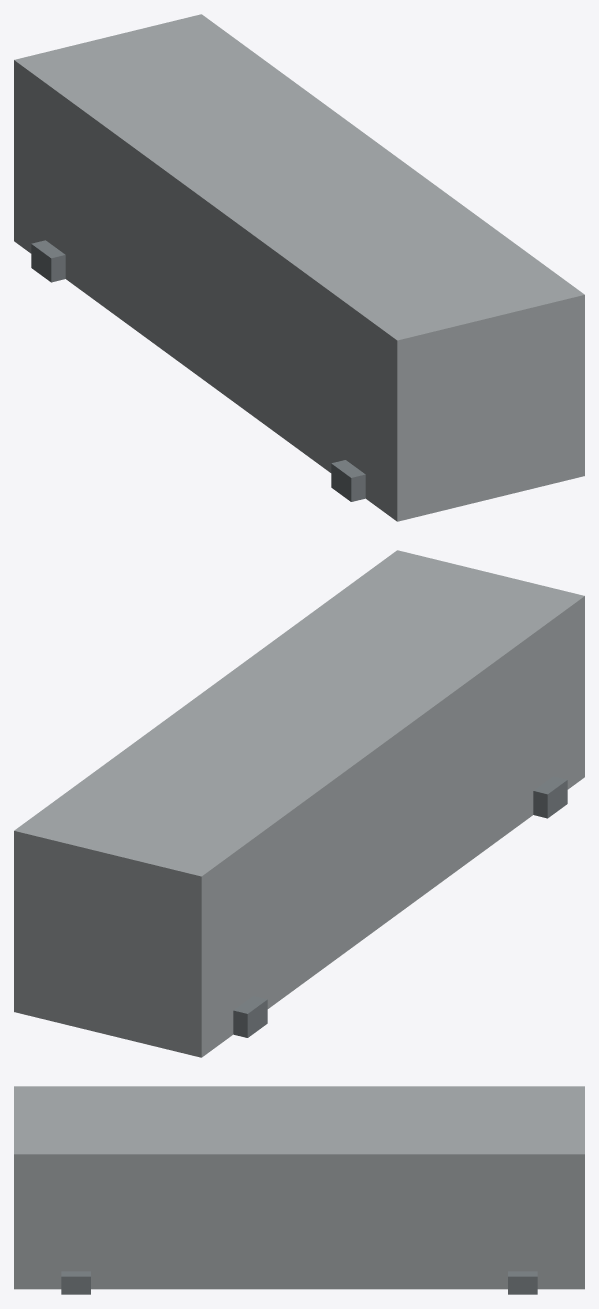
The model's file is lwf_water_trough_v1.glb.
3 renders of one model, top to bottom at view 1: azimuth 30°, elevation 25°; view 2: azimuth 150°, elevation 25°; view 3: azimuth 270°, elevation 25°, orthographic. The views are drawn at different scales.
Parts seen in each view (by area): view 1: LWF_WaterTrough; view 2: LWF_WaterTrough; view 3: LWF_WaterTrough.
Part boxes in pixels (box(x1,y1,x2,y2)): LWF_WaterTrough: box(14, 14, 584, 521); LWF_WaterTrough: box(14, 550, 584, 1057); LWF_WaterTrough: box(14, 1086, 584, 1294).
Size of the model in its own units: 0.75 by 0.6 by 2.3.
1 material, 1 textured.
